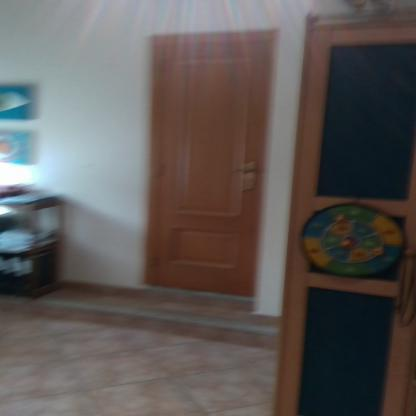door: (160, 44, 258, 277)
hinged: (160, 56, 168, 74), (154, 163, 162, 181), (150, 254, 158, 270)
lever: (227, 167, 252, 176)
